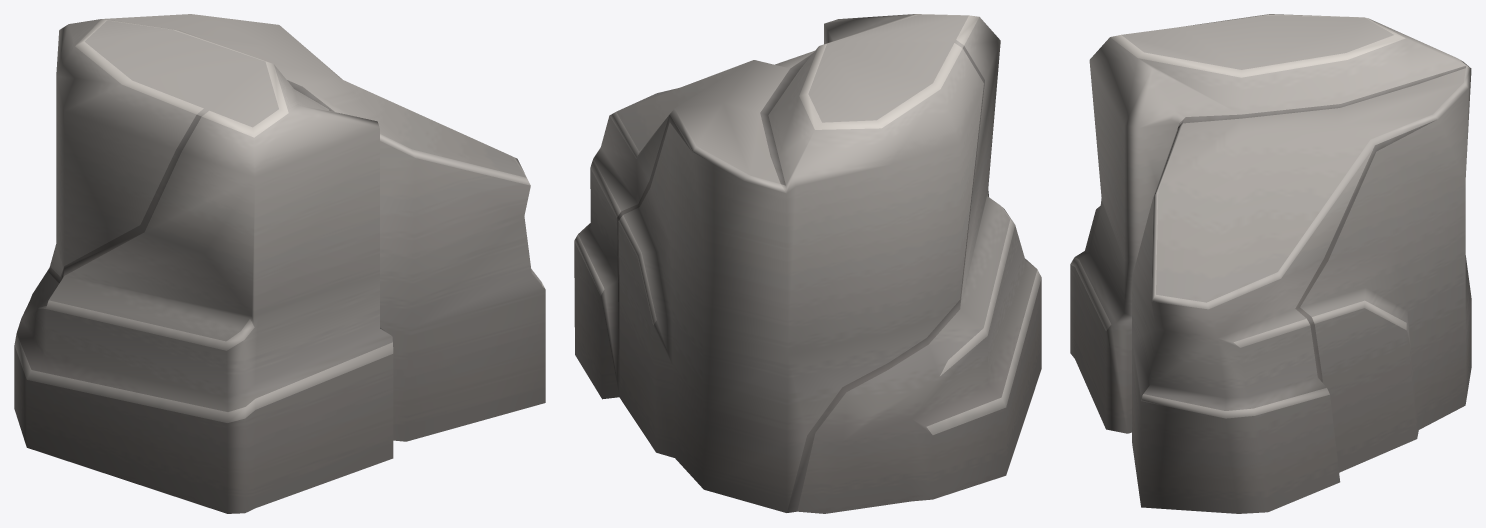
File: Rock_03.fbx
3 renders of one model, left to right at view 1: azimuth 30°, elevation 25°; view 2: azimuth 150°, elevation 25°; view 3: azimuth 270°, elevation 25°, orthographic. The views are drawn at different scales.
Parts seen in each view (by area): view 1: Rock_03; view 2: Rock_03; view 3: Rock_03.
Boxes of the visible parts, bbox=[...] form: Rock_03: bbox=[14, 14, 545, 513]; Rock_03: bbox=[574, 14, 1041, 513]; Rock_03: bbox=[1070, 14, 1471, 513].
Size of the model in its own units: 6.31 by 4.72 by 5.14.
Materials: 1 (1 with a texture image).
